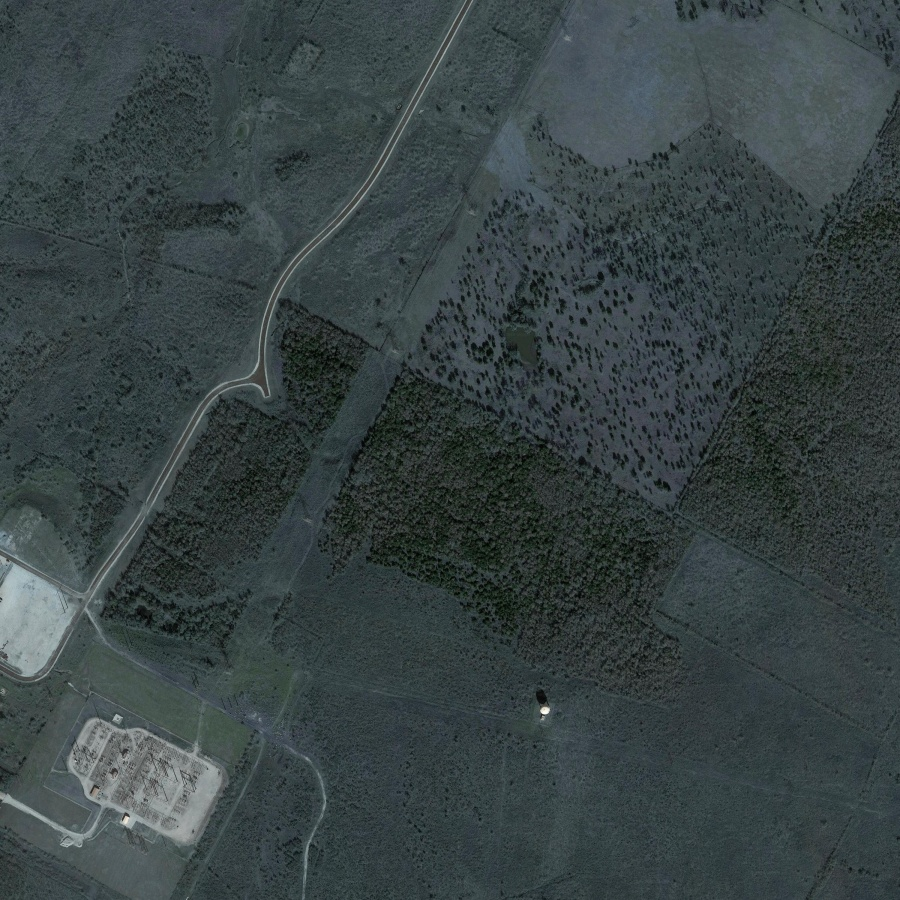PowerPlant: (65, 702, 212, 838)
